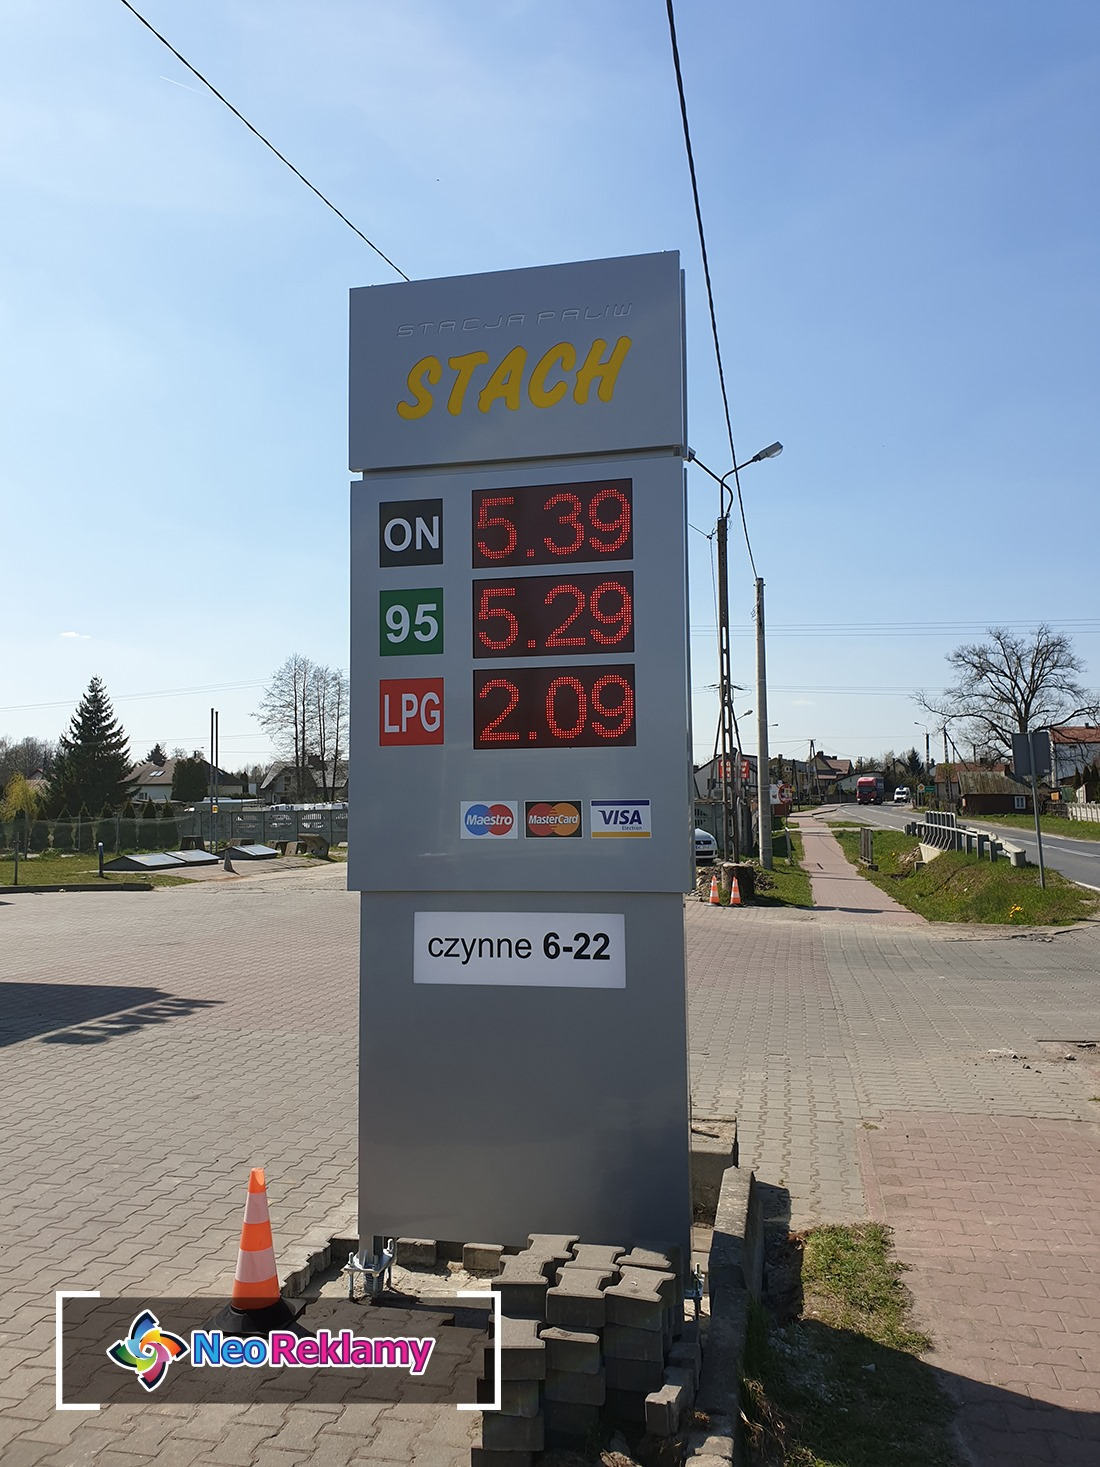LPG: (376, 675, 447, 749)
ON: (374, 496, 440, 567)
PB95: (372, 587, 453, 656)
